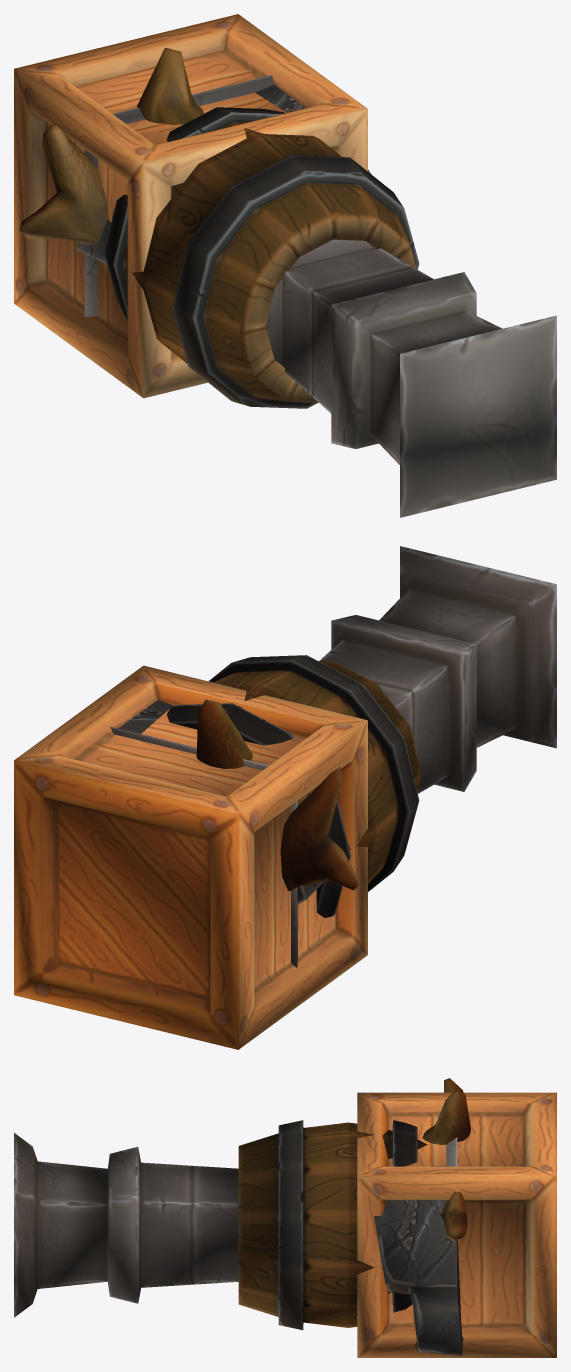
Rendered from stylized-basic-props-e40c85.glb.
The picture shows the model from 3 angles, top to bottom: view 1: azimuth 30°, elevation 25°; view 2: azimuth 150°, elevation 25°; view 3: azimuth 270°, elevation 25°; orthographic projection. The views are drawn at different scales.
Parts seen in each view (by area): view 1: PropMesh; view 2: PropMesh; view 3: PropMesh.
Part boxes in pixels (x1,y1,x2,y2): PropMesh: [14, 14, 556, 517]; PropMesh: [14, 546, 556, 1049]; PropMesh: [14, 1078, 556, 1357].
Bounding box in the file's own units: 1.04 × 0.9045 × 1.88.
Materials: 5 (5 with a texture image).
